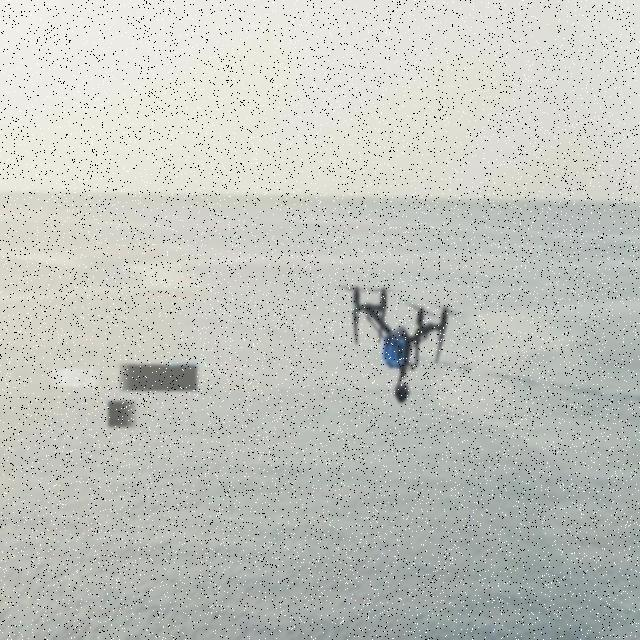UAV: (350, 284, 450, 402)
